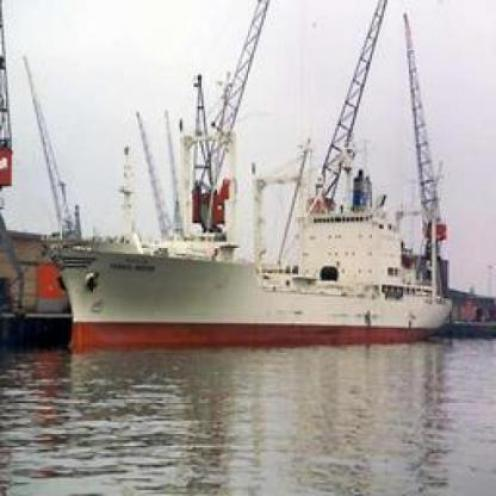Ship: (34, 213, 476, 356)
